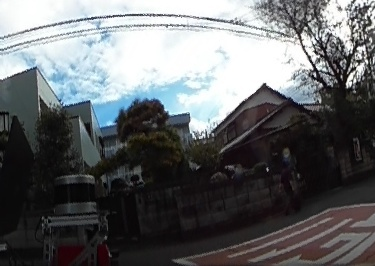person: (276, 158, 299, 213)
